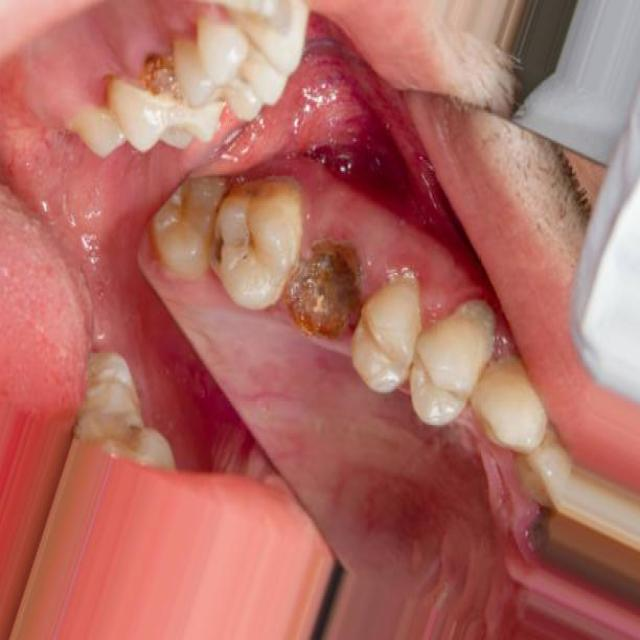caries: (280, 220, 364, 350), (125, 36, 182, 120), (201, 211, 237, 282)
